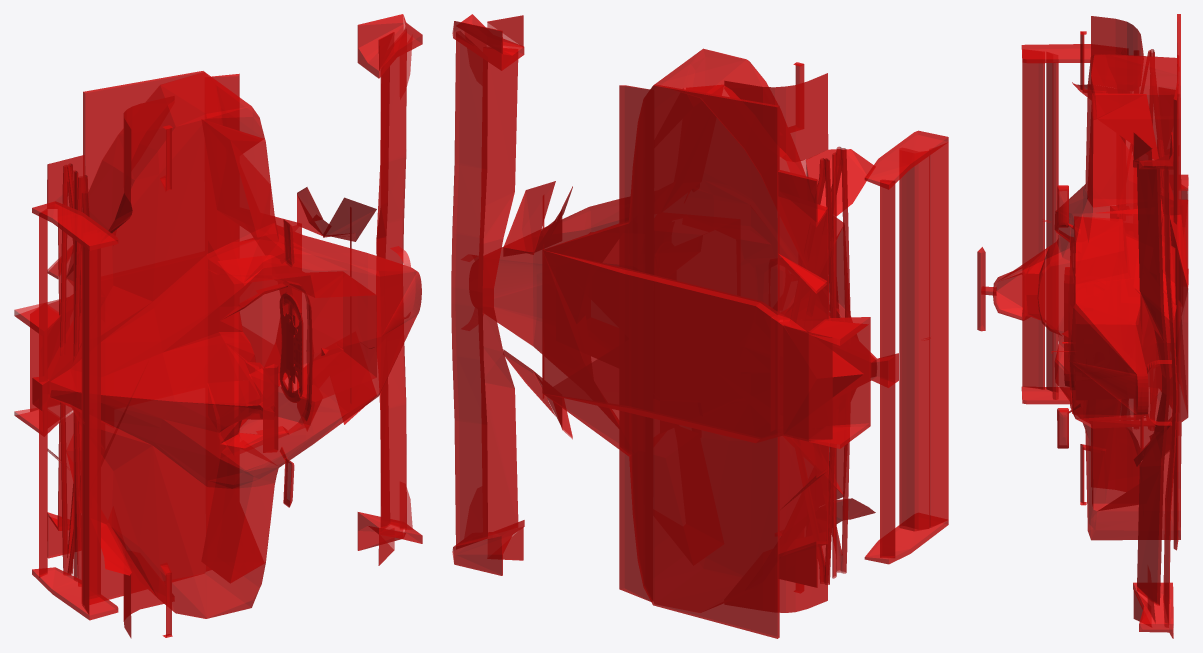
The model's file is cfr 22 try 4_RT_ges_chassis.obj.
The picture shows the model from 3 angles, left to right: view 1: azimuth 30°, elevation 25°; view 2: azimuth 150°, elevation 25°; view 3: azimuth 270°, elevation 25°; orthographic projection. The views are drawn at different scales.
Parts seen in each view (by area): view 1: Mesh28, Mesh49, Mesh75, Mesh85, Mesh40, Mesh92, Mesh72, Mesh47, Mesh84, Mesh73, Mesh88, Mesh16 (+19 smaller); view 2: Mesh28, Mesh75, Mesh53, Mesh72, Mesh85, Mesh84, Mesh4, Mesh23, Mesh42, Mesh92, Mesh88, Mesh86 (+16 smaller); view 3: Mesh28, Mesh72, Mesh49, Mesh84, Mesh81, Mesh85, Mesh75, Mesh88, Mesh53, Mesh87, Mesh86, Mesh90 (+11 smaller).
Part boxes in pixels (x1=…): Mesh28: x1=30, y1=71, x2=421, y2=618; Mesh49: x1=207, y1=270, x2=376, y2=401; Mesh75: x1=377, y1=29, x2=406, y2=526; Mesh85: x1=81, y1=232, x2=100, y2=603; Mesh40: x1=208, y1=241, x2=233, y2=454; Mesh92: x1=39, y1=209, x2=47, y2=577; Mesh72: x1=376, y1=64, x2=390, y2=531; Mesh47: x1=32, y1=311, x2=113, y2=427; Mesh84: x1=82, y1=245, x2=89, y2=614; Mesh73: x1=357, y1=14, x2=422, y2=78; Mesh88: x1=123, y1=96, x2=174, y2=202; Mesh16: x1=208, y1=381, x2=314, y2=455; Mesh28: x1=494, y1=48, x2=876, y2=638; Mesh75: x1=451, y1=31, x2=487, y2=549; Mesh53: x1=619, y1=85, x2=653, y2=601; Mesh72: x1=482, y1=47, x2=518, y2=535; Mesh85: x1=899, y1=155, x2=929, y2=531; Mesh84: x1=929, y1=142, x2=948, y2=527; Mesh4: x1=778, y1=429, x2=829, y2=587; Mesh23: x1=778, y1=169, x2=829, y2=320; Mesh42: x1=778, y1=317, x2=870, y2=448; Mesh92: x1=880, y1=180, x2=895, y2=557; Mesh88: x1=724, y1=73, x2=828, y2=162; Mesh86: x1=864, y1=130, x2=948, y2=189; Mesh28: x1=993, y1=14, x2=1188, y2=540; Mesh72: x1=1137, y1=164, x2=1169, y2=605; Mesh49: x1=1075, y1=278, x2=1168, y2=399; Mesh84: x1=1022, y1=50, x2=1044, y2=389; Mesh81: x1=1074, y1=216, x2=1138, y2=284; Mesh85: x1=1046, y1=62, x2=1058, y2=399; Mesh75: x1=1163, y1=165, x2=1177, y2=627; Mesh88: x1=1091, y1=16, x2=1143, y2=90; Mesh53: x1=1173, y1=83, x2=1178, y2=550; Mesh87: x1=1133, y1=582, x2=1173, y2=638; Mesh86: x1=1021, y1=44, x2=1090, y2=63; Mesh90: x1=1064, y1=267, x2=1073, y2=387.
Bounding box in the file's own units: 1714 × 2167 × 852.
